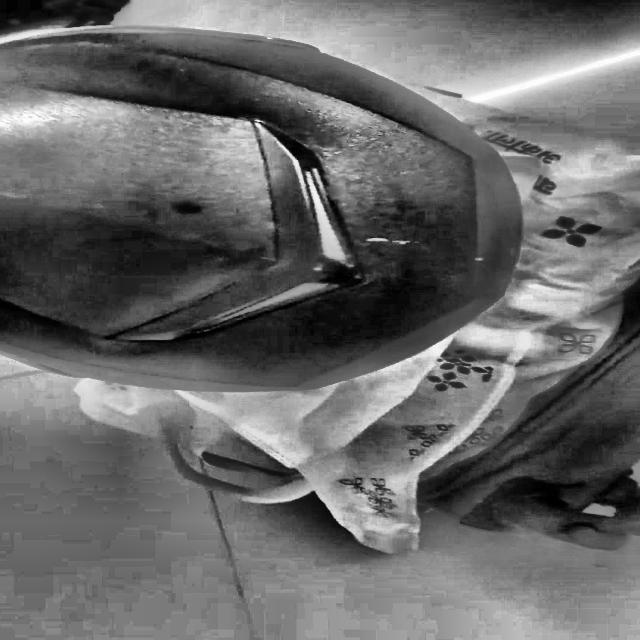Helmet: (0, 21, 542, 389)
